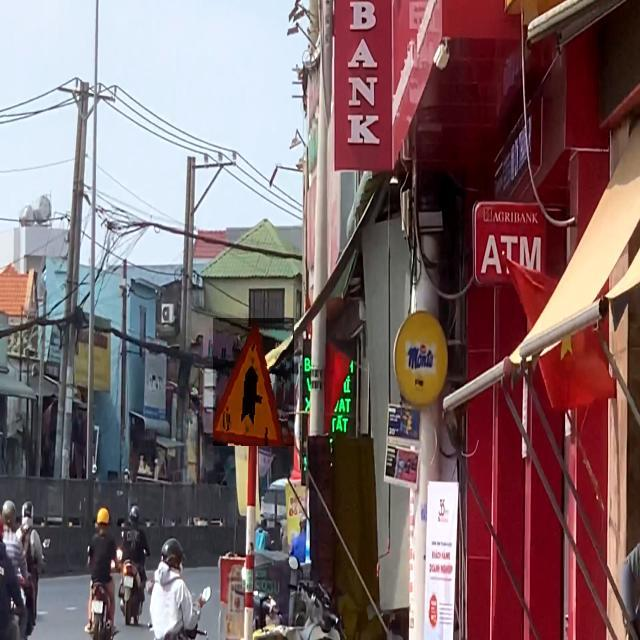W-207b: (213, 319, 294, 447)
